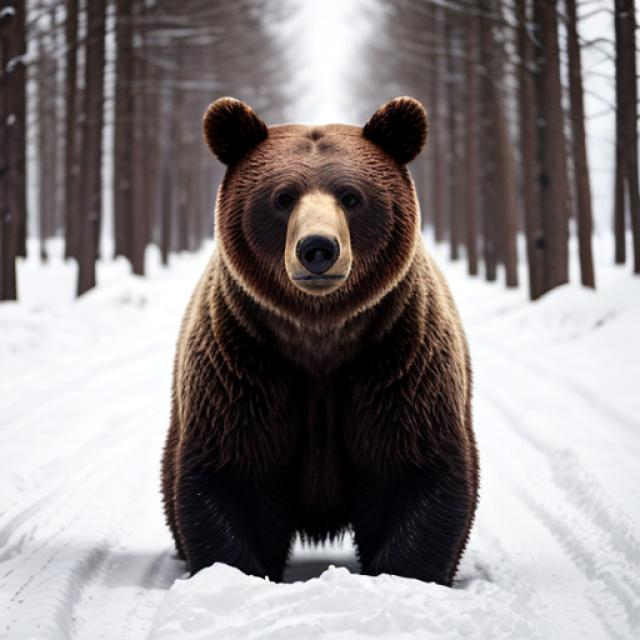bear: (162, 72, 476, 366)
